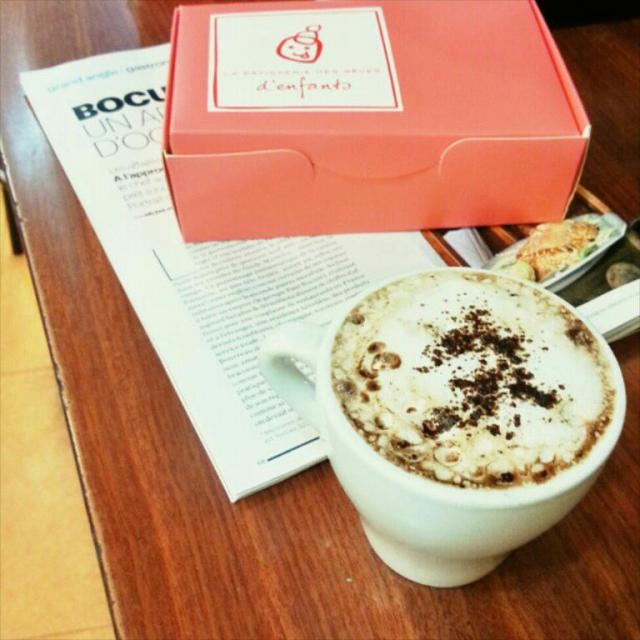Coffee: (340, 282, 620, 546)
